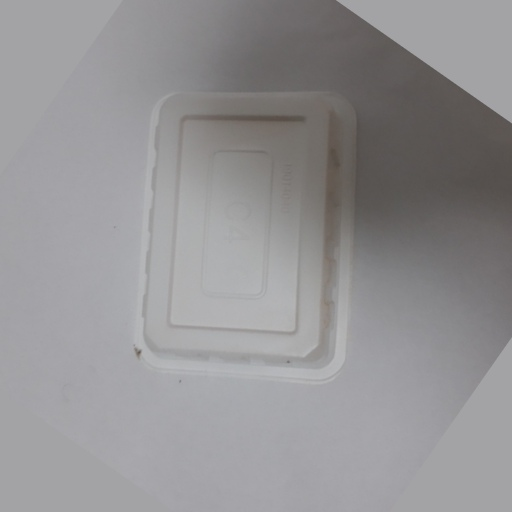Plastic_4: (127, 86, 359, 391)
